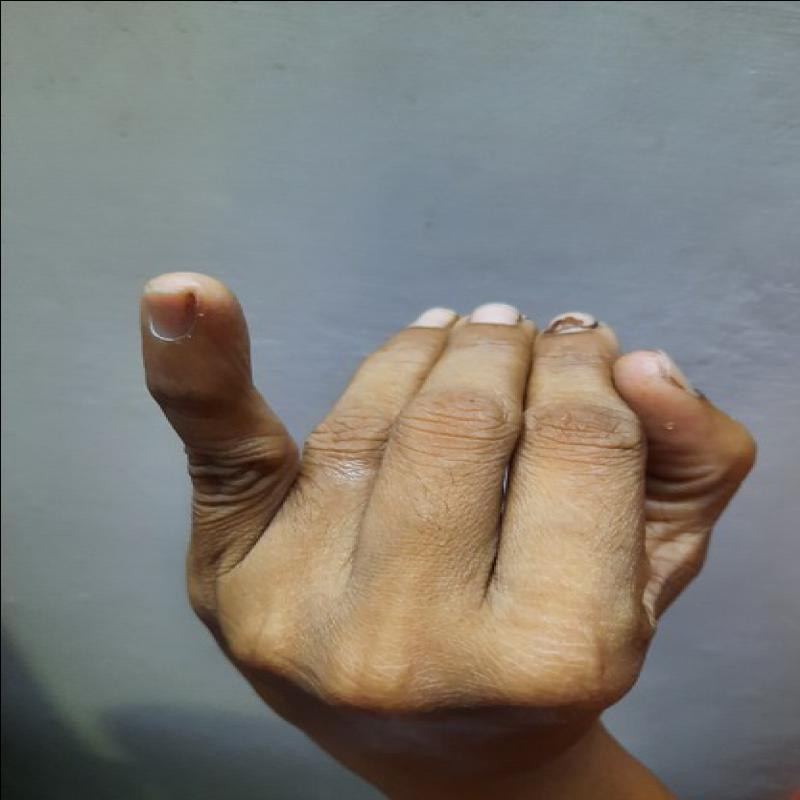Kartharee Mukham: (123, 246, 766, 763)
